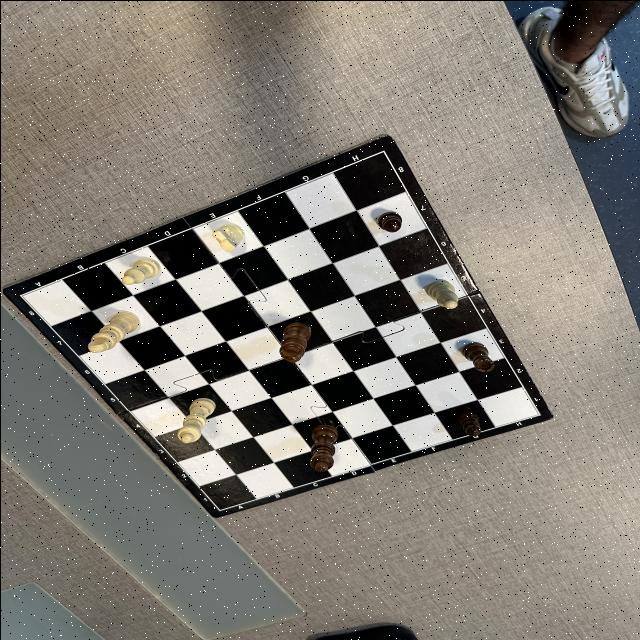Black-King: (278, 322, 310, 362)
Black-Queen: (308, 424, 338, 472)
Black-Rook: (462, 341, 494, 372)
White-Bishop: (426, 280, 458, 308)
